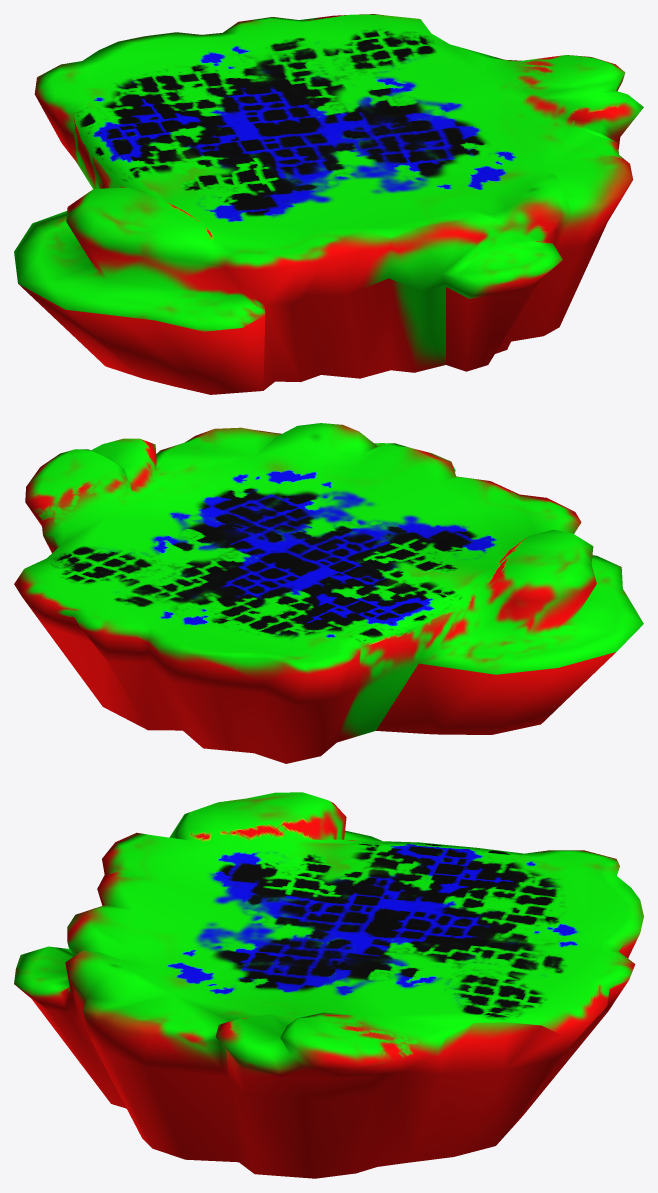
File: grass_shanlinpingtai_001.FBX
The picture shows the model from 3 angles, top to bottom: view 1: azimuth 30°, elevation 25°; view 2: azimuth 150°, elevation 25°; view 3: azimuth 270°, elevation 25°; orthographic projection. The views are drawn at different scales.
Visible parts, largest first — view 1: grass_shanlinpingtai_001; view 2: grass_shanlinpingtai_001; view 3: grass_shanlinpingtai_001.
Part boxes in pixels (box(x1,y1,x2,y2)): grass_shanlinpingtai_001: box(14, 14, 643, 394); grass_shanlinpingtai_001: box(14, 423, 643, 763); grass_shanlinpingtai_001: box(14, 792, 643, 1178).
Size of the model in its own units: 3123 by 2804 by 853.
